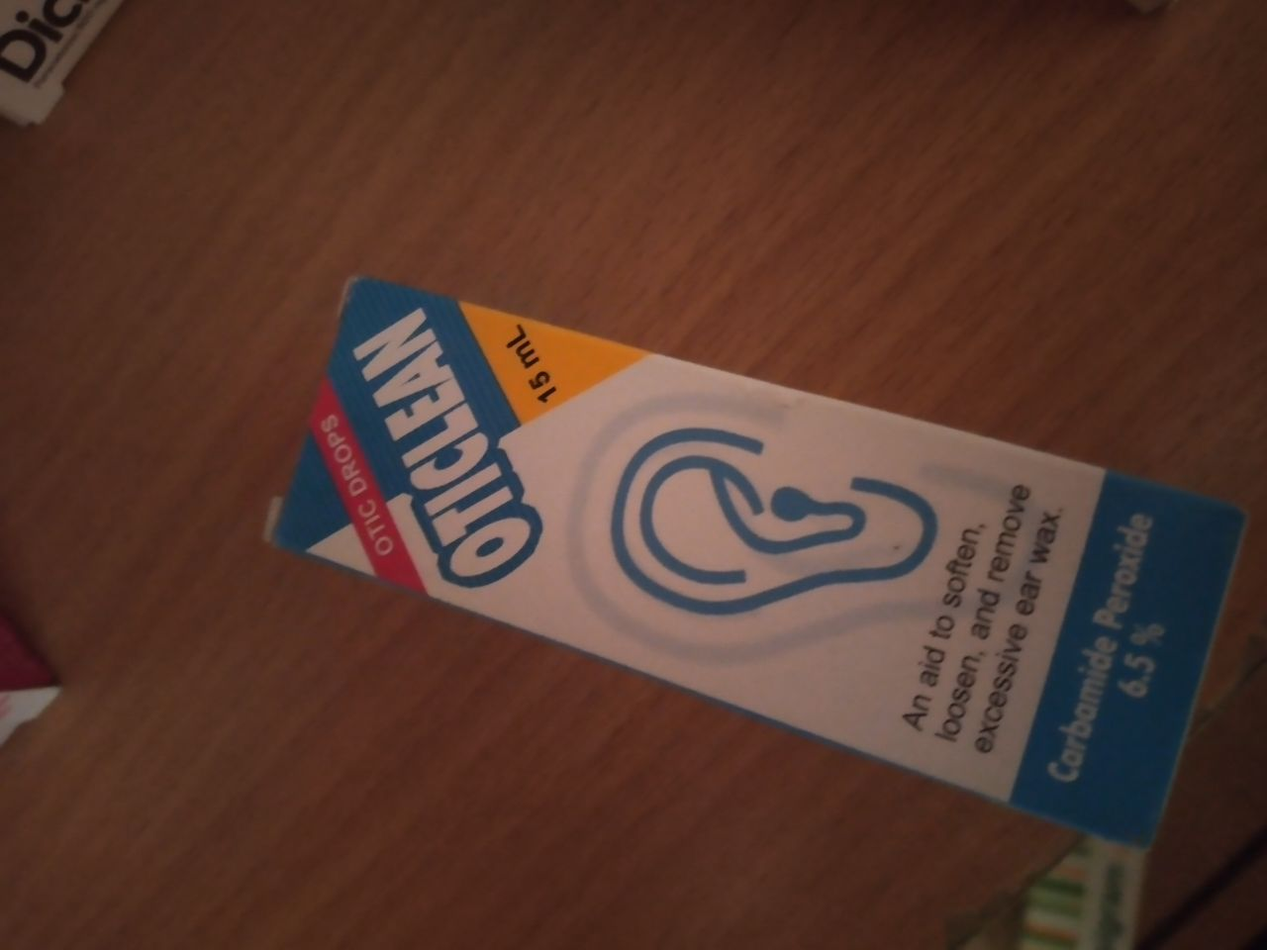Medicine: (243, 260, 1240, 891)
